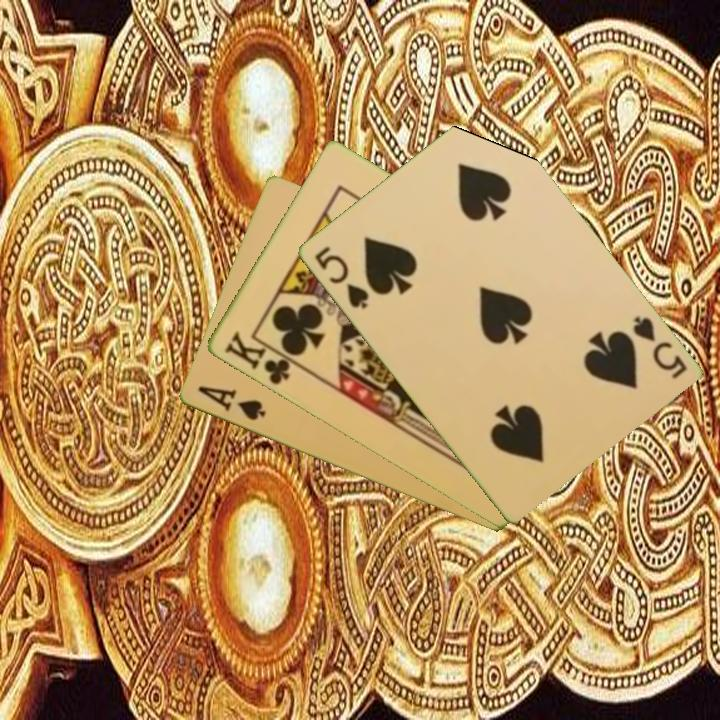5s: (628, 311, 690, 382), (310, 242, 371, 312)
As: (193, 382, 268, 424)
Kc: (220, 327, 301, 388)
